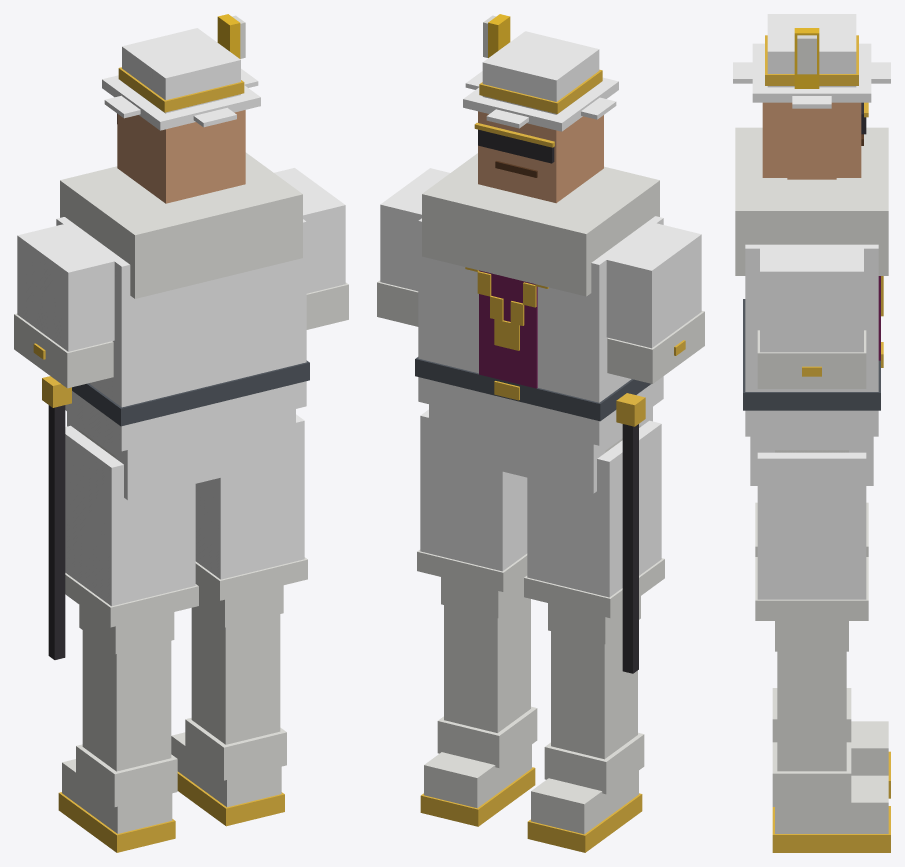
File: PIMP.gltf
The picture shows the model from 3 angles, left to right: view 1: azimuth 30°, elevation 25°; view 2: azimuth 150°, elevation 25°; view 3: azimuth 270°, elevation 25°; orthographic projection. The views are drawn at different scales.
Parts seen in each view (by area): view 1: PIMP; view 2: PIMP; view 3: PIMP.
Boxes of the visible parts, x1,y1,x2,y2 form: PIMP: (14, 14, 348, 852); PIMP: (377, 14, 704, 852); PIMP: (733, 14, 890, 852).
Bounding box in the file's own units: 0.68 × 1.79 × 0.32.
